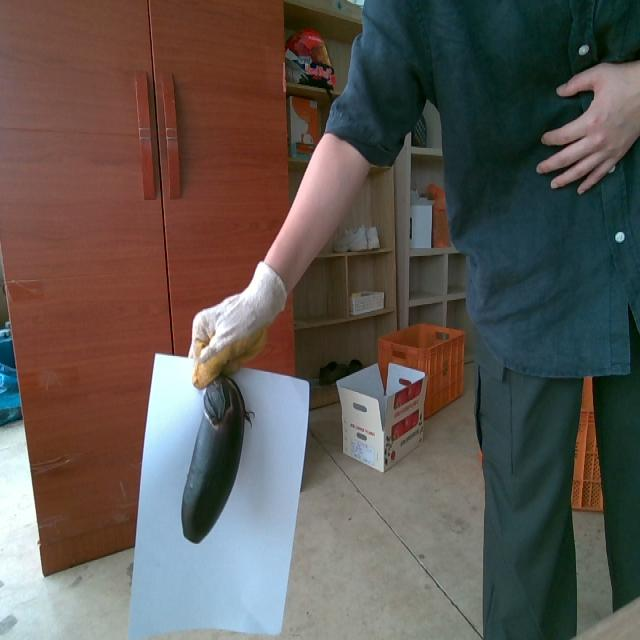Egg plant: (181, 376, 245, 541), (207, 389, 224, 415)
